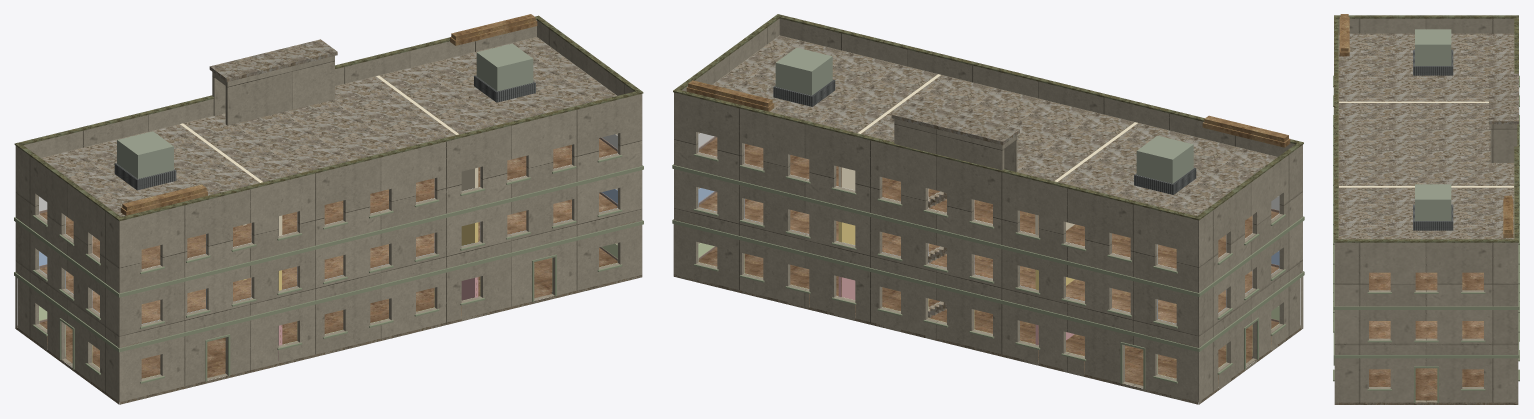
Rendered from mb-barracks-3s.garrison-v2.lod0.glb.
The picture shows the model from 3 angles, left to right: view 1: azimuth 30°, elevation 25°; view 2: azimuth 150°, elevation 25°; view 3: azimuth 270°, elevation 25°; orthographic projection. The views are drawn at different scales.
Parts seen in each view (by area): view 1: mb-barracks-3s; view 2: mb-barracks-3s; view 3: mb-barracks-3s.
Part boxes in pixels (<box>): mb-barracks-3s: <box>14,14,643,404</box>; mb-barracks-3s: <box>672,14,1304,404</box>; mb-barracks-3s: <box>1333,14,1519,404</box>.
Size of the model in its own units: 32.2 by 12.56 by 11.2.
Materials: 5 (4 with a texture image).
